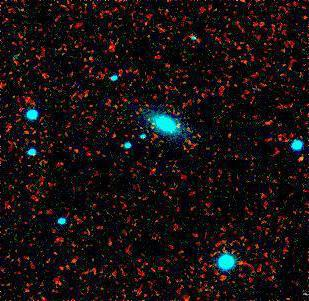star: (285, 144, 309, 174)
